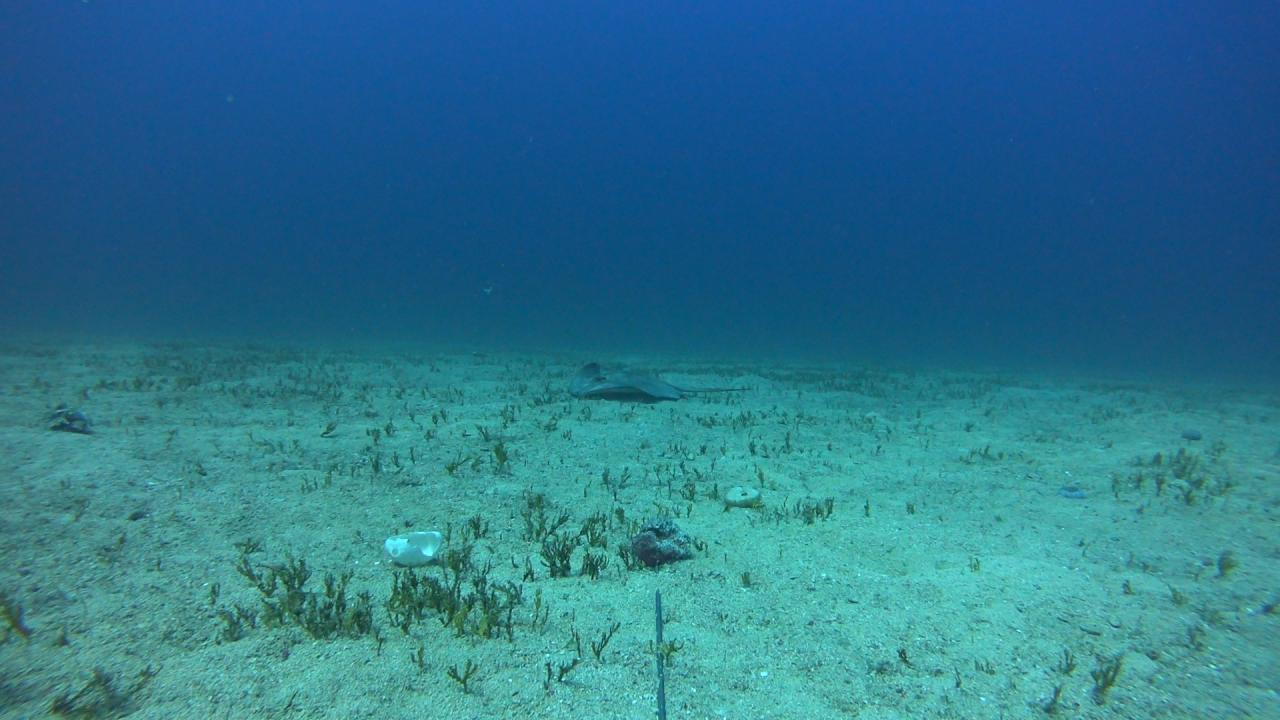dasyatis: (567, 362, 749, 400)
